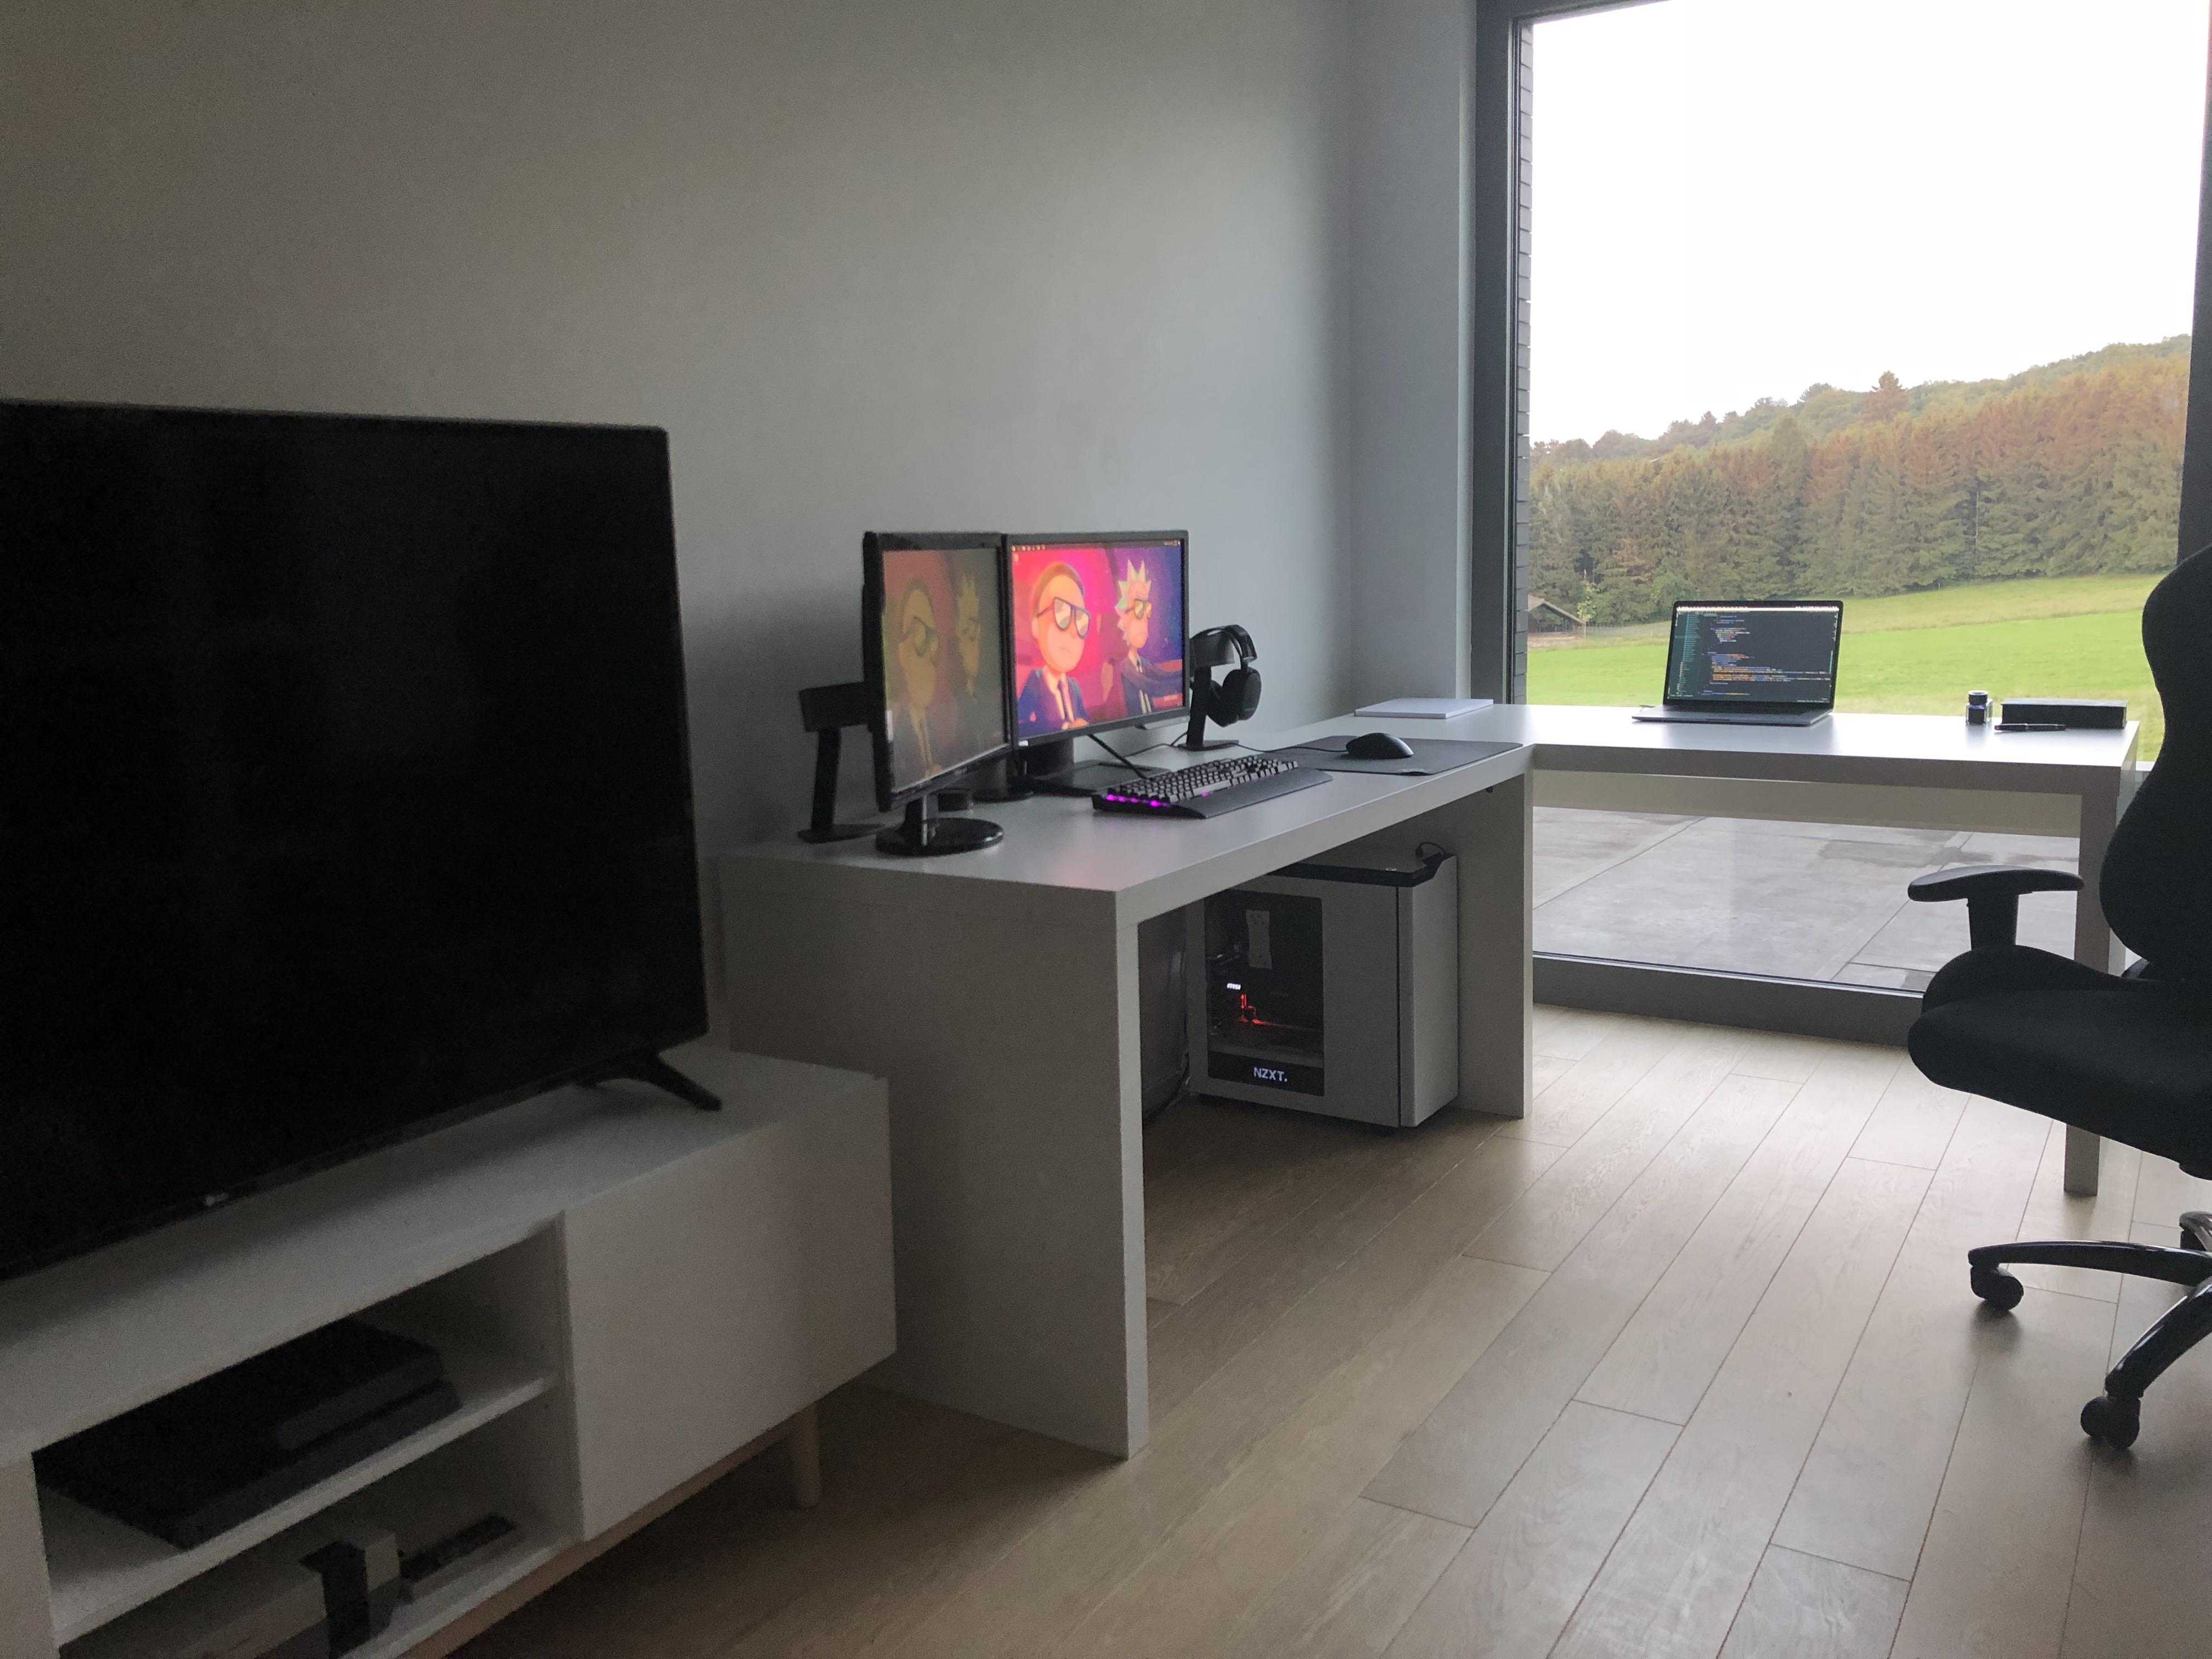Chair (Generic): (1923, 554, 2212, 1180)
Desk (Generic): (653, 678, 2123, 929)
Desktop (Linux): (1195, 864, 1461, 1131)
Headphones: (1191, 619, 1271, 737)
Keyboard (Gaming): (1096, 760, 1346, 833)
Laptop (OSX): (1629, 598, 1848, 728)
Monitor (Landscape): (1008, 532, 1191, 739), (869, 532, 1008, 788)
Monitor (Laptop): (1667, 599, 1844, 697)
Mouse (Generic): (1329, 716, 1420, 763)
Mousepad (Generic): (1280, 718, 1461, 802)
